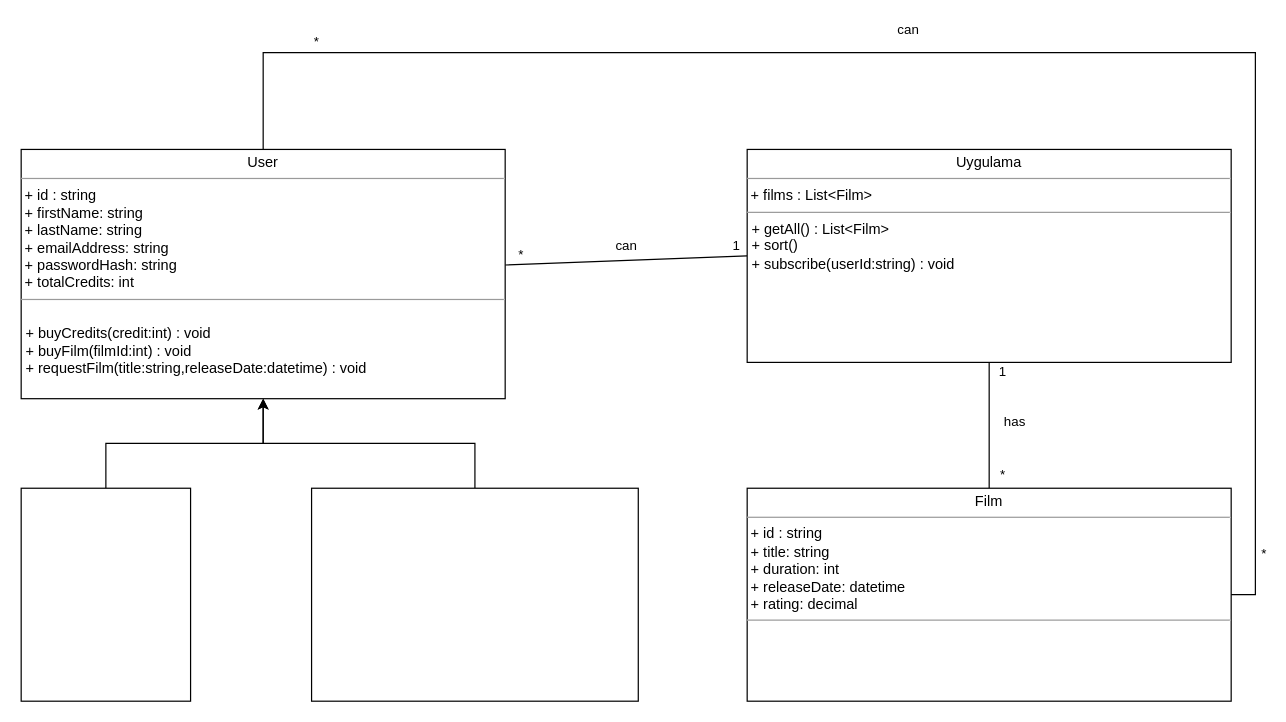
Image size: 1286x722. Some labels were removed from this diagram. Here are the shapes that lost their labels. From the top down, the centre of each, then its label:
At [105,594]: "Standart".
At [474,594]: "Subscriber + rentFilm(filmId:string) : void".
